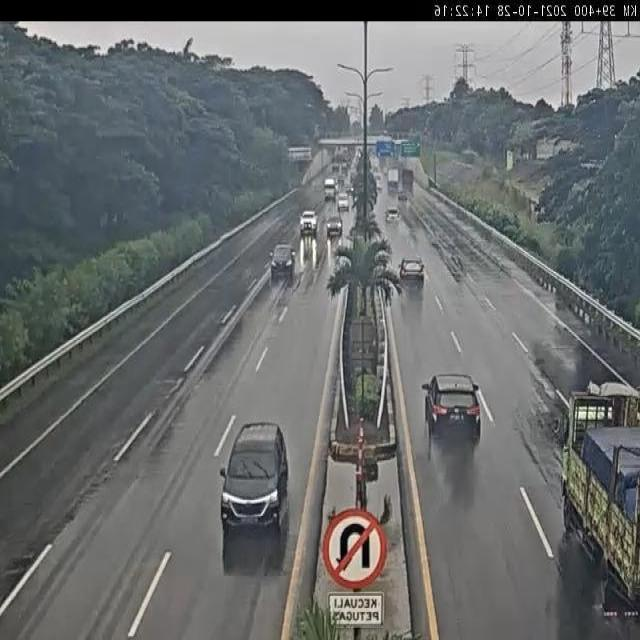Car: (217, 421, 290, 534), (419, 372, 484, 445), (270, 244, 296, 276), (398, 256, 425, 284), (299, 211, 318, 236), (326, 215, 343, 237), (384, 206, 401, 224), (336, 192, 350, 212), (397, 189, 408, 202), (345, 182, 355, 194), (337, 174, 345, 184)
Truck: (552, 378, 640, 619), (323, 176, 337, 204), (401, 168, 414, 188), (387, 167, 399, 187)
